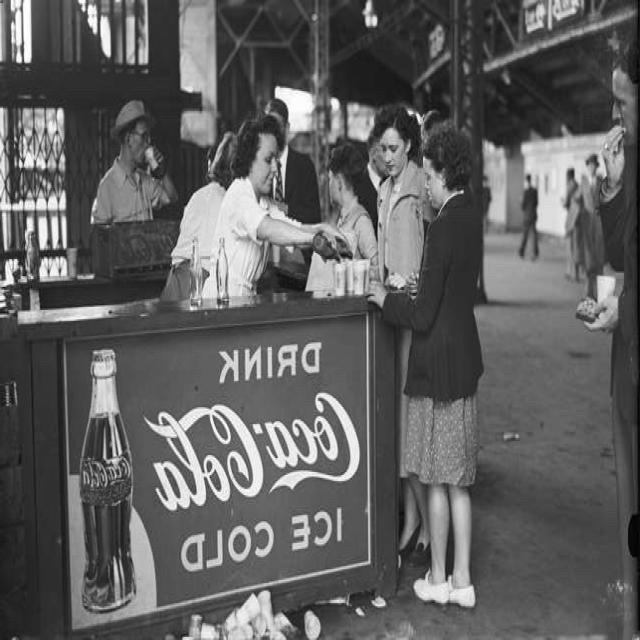coca cola: (145, 381, 362, 518)
